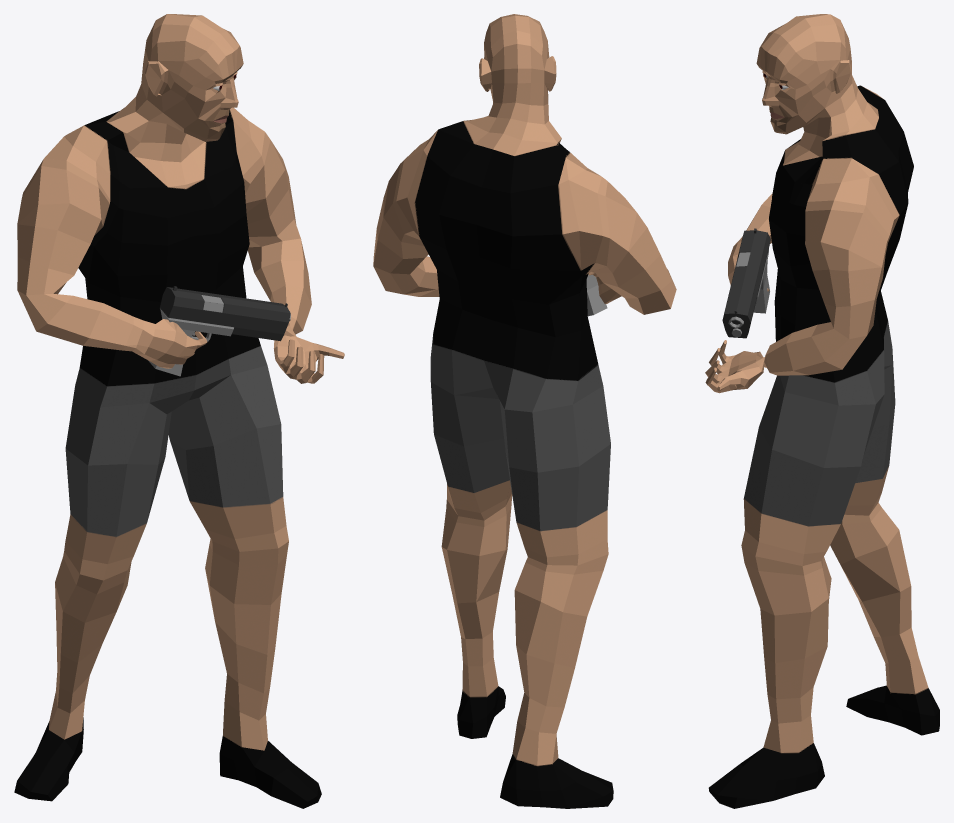
Rendered from PlayerIdle(167).obj.
3 renders of one model, left to right at view 1: azimuth 30°, elevation 25°; view 2: azimuth 150°, elevation 25°; view 3: azimuth 270°, elevation 25°, orthographic. The views are drawn at different scales.
Visible parts, largest first — view 1: Plane002, Box003; view 2: Plane002, Box003; view 3: Plane002, Box003.
Part boxes in pixels (x1,y1,x2,y2): Plane002: [14, 14, 344, 808]; Box003: [148, 286, 290, 376]; Plane002: [373, 14, 676, 808]; Box003: [586, 274, 607, 316]; Plane002: [705, 14, 939, 808]; Box003: [722, 228, 770, 338].
Bounding box in the file's own units: 715 × 1797 × 512.
